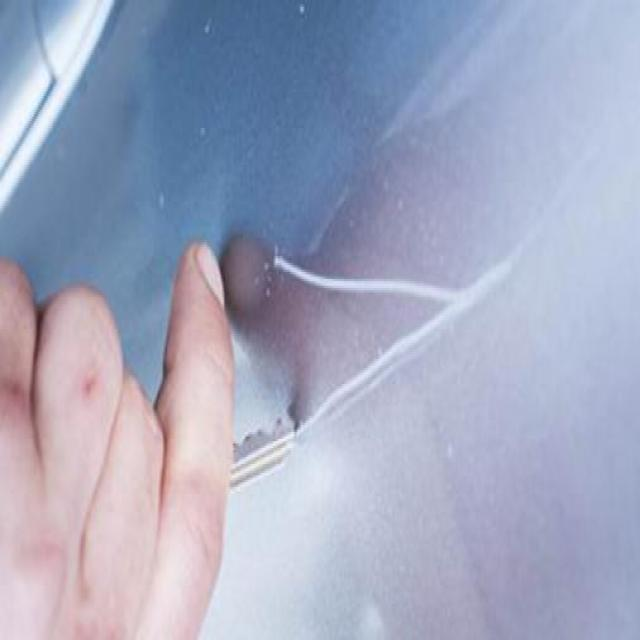scratch: (262, 234, 510, 318), (308, 344, 450, 447)
